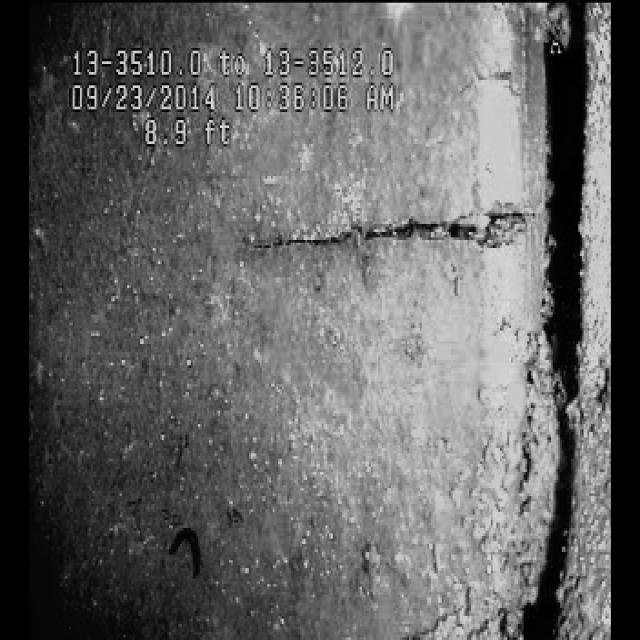Crack: (263, 163, 542, 334)
